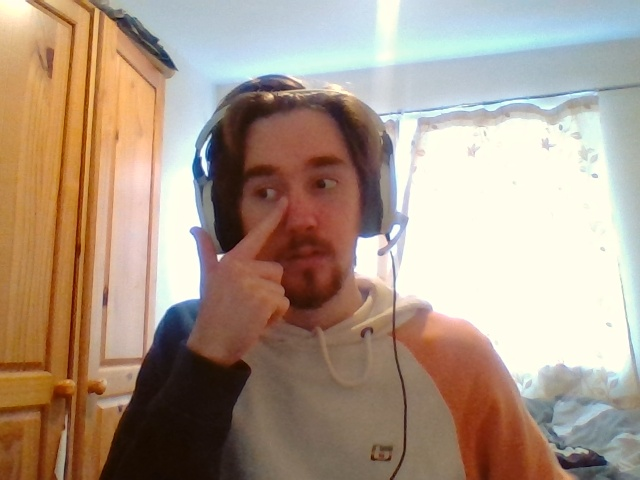luck: (191, 196, 291, 332)
